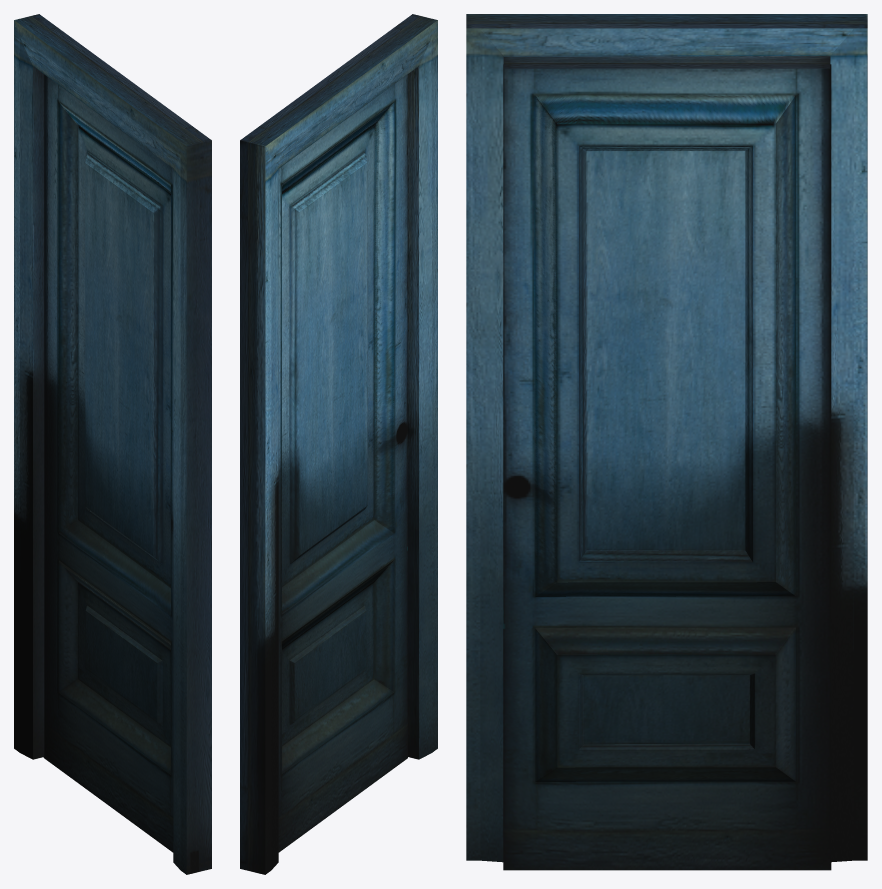
The model's file is Door.obj.
The picture shows the model from 3 angles, left to right: view 1: azimuth 30°, elevation 25°; view 2: azimuth 150°, elevation 25°; view 3: azimuth 270°, elevation 25°; orthographic projection. The views are drawn at different scales.
Parts seen in each view (by area): view 1: Doors.1; view 2: Doors.1; view 3: Doors.1.
Part boxes in pixels (<box>): Doors.1: <box>14,14,211,874</box>; Doors.1: <box>240,14,437,874</box>; Doors.1: <box>466,14,867,870</box>.
Bounding box in the file's own units: 0.0852 × 2.36 × 1.01.
